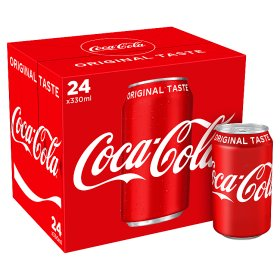can: (208, 121, 277, 244)
